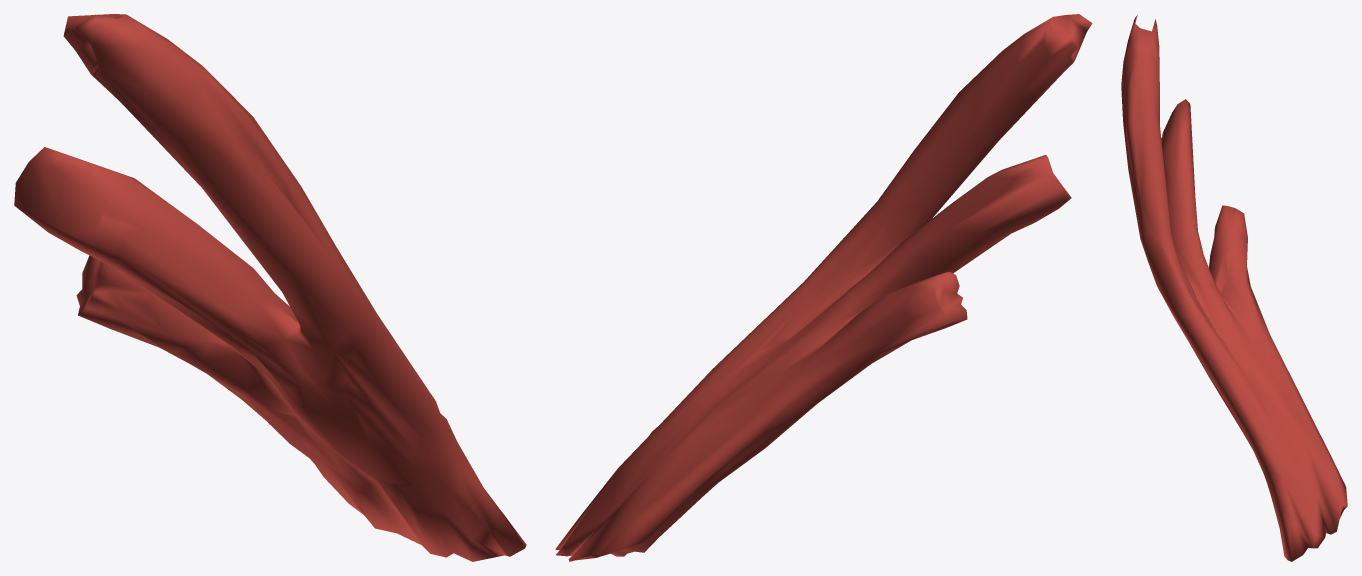
Rendered from musculos-scalenus-posterior-muscle-l.glb.
The picture shows the model from 3 angles, left to right: view 1: azimuth 30°, elevation 25°; view 2: azimuth 150°, elevation 25°; view 3: azimuth 270°, elevation 25°; orthographic projection. The views are drawn at different scales.
Parts seen in each view (by area): view 1: Scalenus posterior muscle.l; view 2: Scalenus posterior muscle.l; view 3: Scalenus posterior muscle.l.
Boxes of the visible parts, box(x1,y1,x2,y2) form: Scalenus posterior muscle.l: box(14, 14, 526, 561); Scalenus posterior muscle.l: box(555, 14, 1092, 561); Scalenus posterior muscle.l: box(1121, 14, 1347, 561).
Size of the model in its own units: 0.0442 by 0.0536 by 0.0274.
